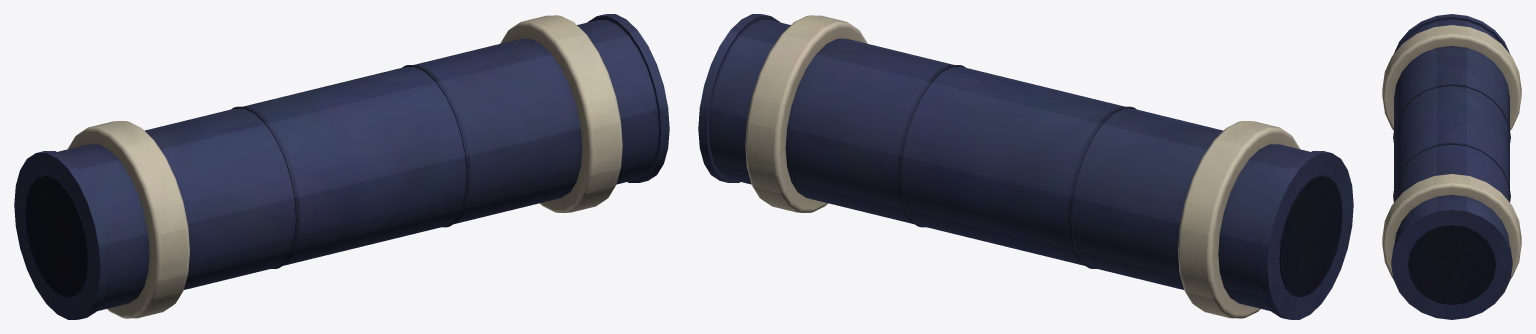
Rendered from bg_claude_service_s03_pipe.glb.
The picture shows the model from 3 angles, left to right: view 1: azimuth 30°, elevation 25°; view 2: azimuth 150°, elevation 25°; view 3: azimuth 270°, elevation 25°; orthographic projection. The views are drawn at different scales.
Parts seen in each view (by area): view 1: pipe; view 2: pipe; view 3: pipe.
Part boxes in pixels (x1,y1,x2,y2): pipe: (14, 14, 669, 319); pipe: (698, 14, 1353, 319); pipe: (1382, 14, 1521, 319).
Size of the model in its own units: 2.01 by 0.6 by 0.6.
Materials: 1 (1 with a texture image).
